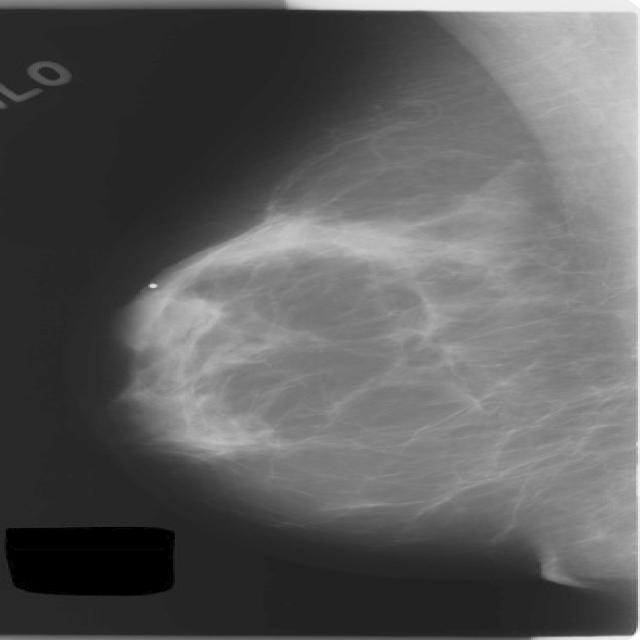tumour: (165, 296, 220, 336)
